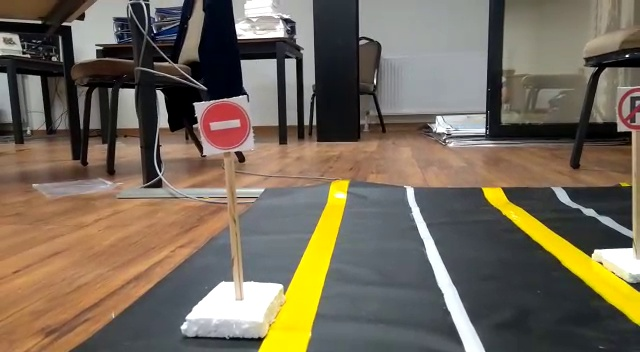girisi_olmayan_yol: (194, 98, 249, 150)
park_yapilmaz: (613, 84, 640, 128)
